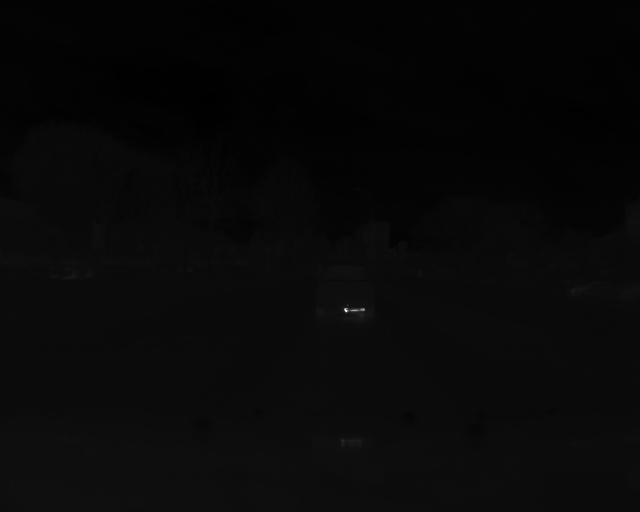car: (316, 262, 379, 321)
